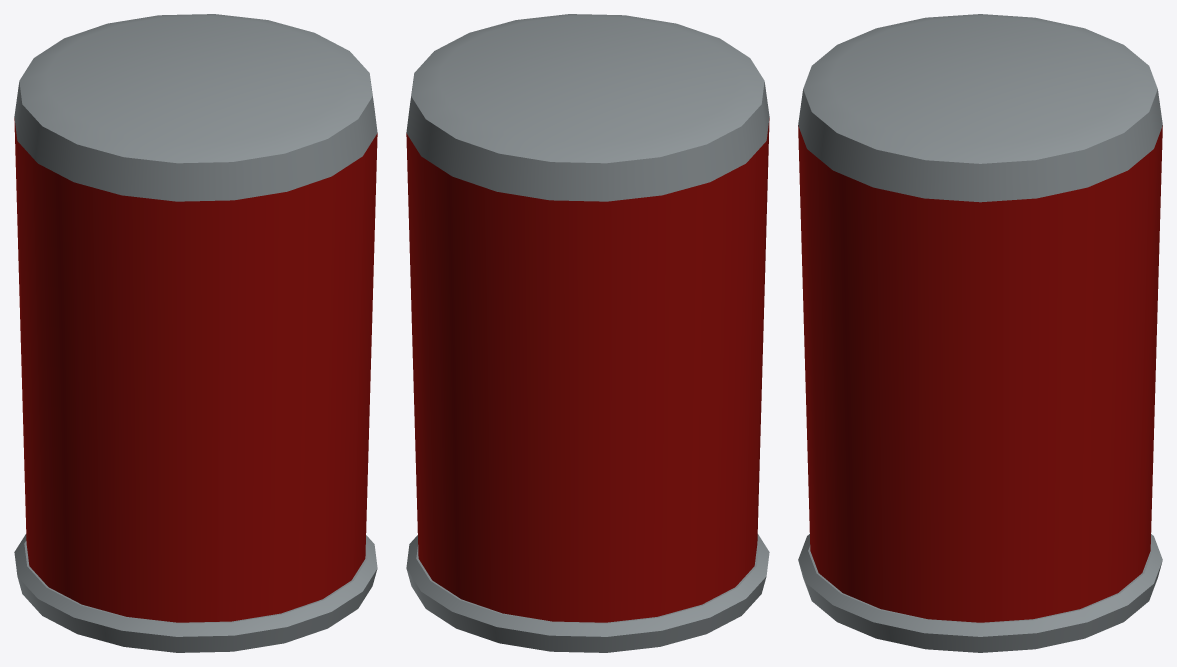
File: mkt-can.glb
3 views of the same model, side by side, from view 1: azimuth 30°, elevation 25°; view 2: azimuth 150°, elevation 25°; view 3: azimuth 270°, elevation 25° (orthographic).
Parts seen in each view (by area): view 1: pack__plastic, rims__metal; view 2: pack__plastic, rims__metal; view 3: pack__plastic, rims__metal.
Part boxes in pixels (x1,y1,x2,y2): pack__plastic: (14, 118, 377, 622); rims__metal: (14, 14, 377, 652); pack__plastic: (406, 118, 769, 622); rims__metal: (406, 14, 769, 652); pack__plastic: (798, 125, 1162, 622); rims__metal: (798, 14, 1162, 652).
Bounding box in the file's own units: 0.073 × 0.11 × 0.073.
